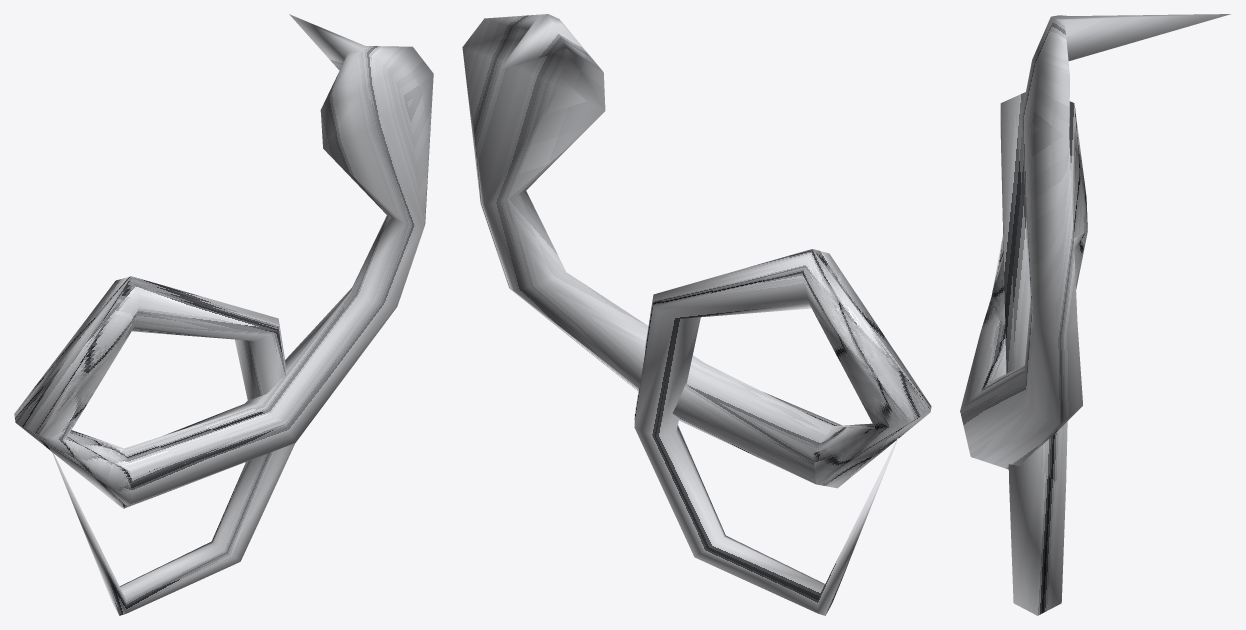
Rendered from snake_000065.obj.
3 views of the same model, side by side, from view 1: azimuth 30°, elevation 25°; view 2: azimuth 150°, elevation 25°; view 3: azimuth 270°, elevation 25° (orthographic). The views are drawn at different scales.
Visible parts, largest first — view 1: Cylinder; view 2: Cylinder; view 3: Cylinder.
Part boxes in pixels (box(x1,y1,x2,y2)): Cylinder: box(14, 14, 433, 615); Cylinder: box(462, 14, 931, 615); Cylinder: box(960, 14, 1230, 615).
Bounding box in the file's own units: 3.23 × 3.63 × 1.22.
